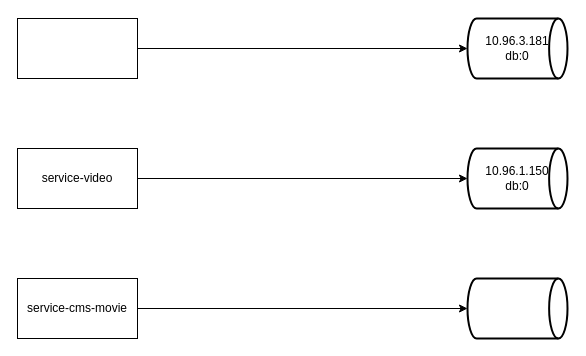
Image size: 586x356. Some labels were removed from this diagram. Each missing label, with the centre of its shape:
"10.96.3.158 db:1" belongs at [517,308].
"service-season" belongs at [77,48].
